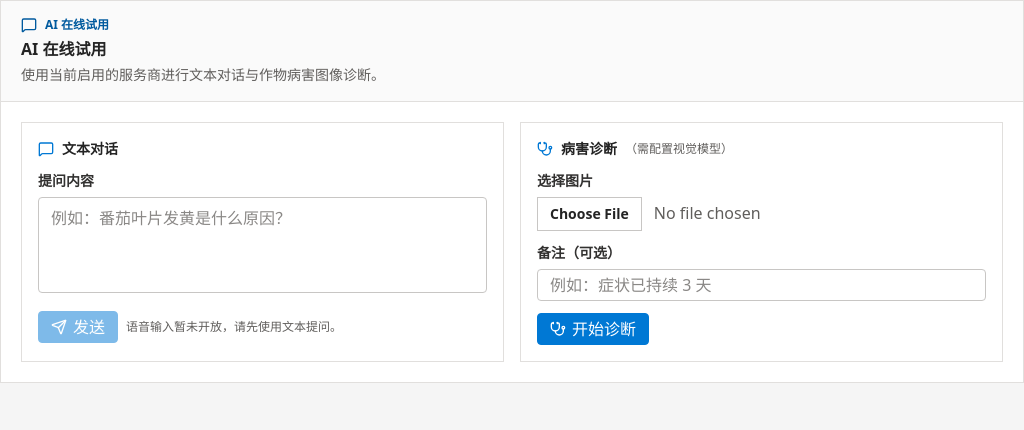
Test: AiPlayground production actions › renders chat errors from the real chat API wrapper
The width and height of the screenshot is (1024, 430).
Step 1. Type "help" into the text box with placeholder "例如：番茄叶片发黄是什么原因？" → (262, 245), box 38,197 -> 487,293
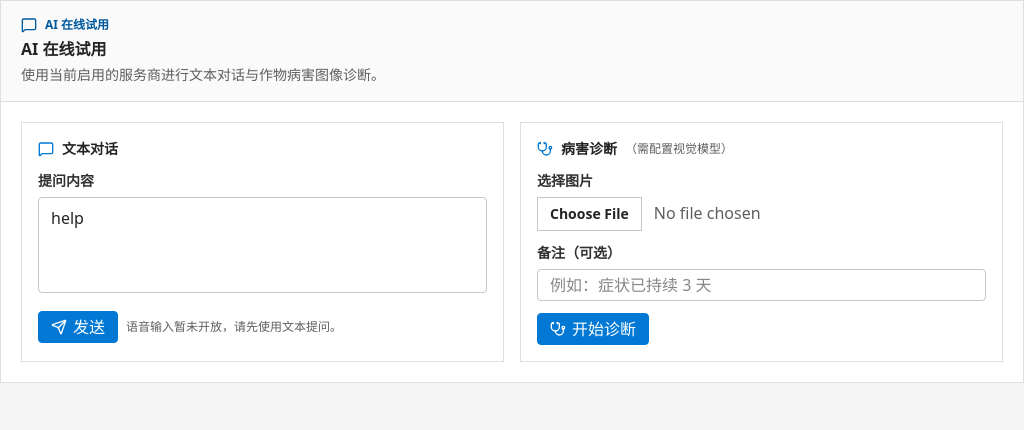
Step 2. Click the button "发送" → (78, 327), box 38,311 -> 118,343
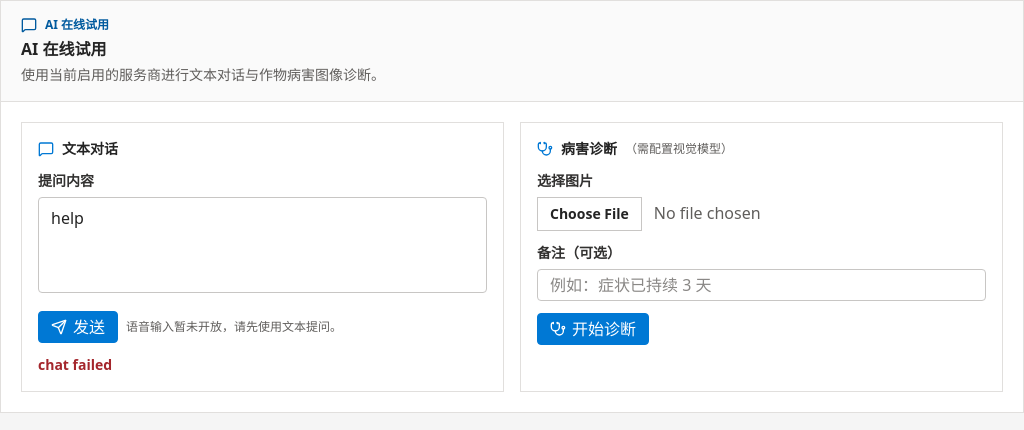
Result: the text "chat failed" is shown at 38,355 -> 112,374
